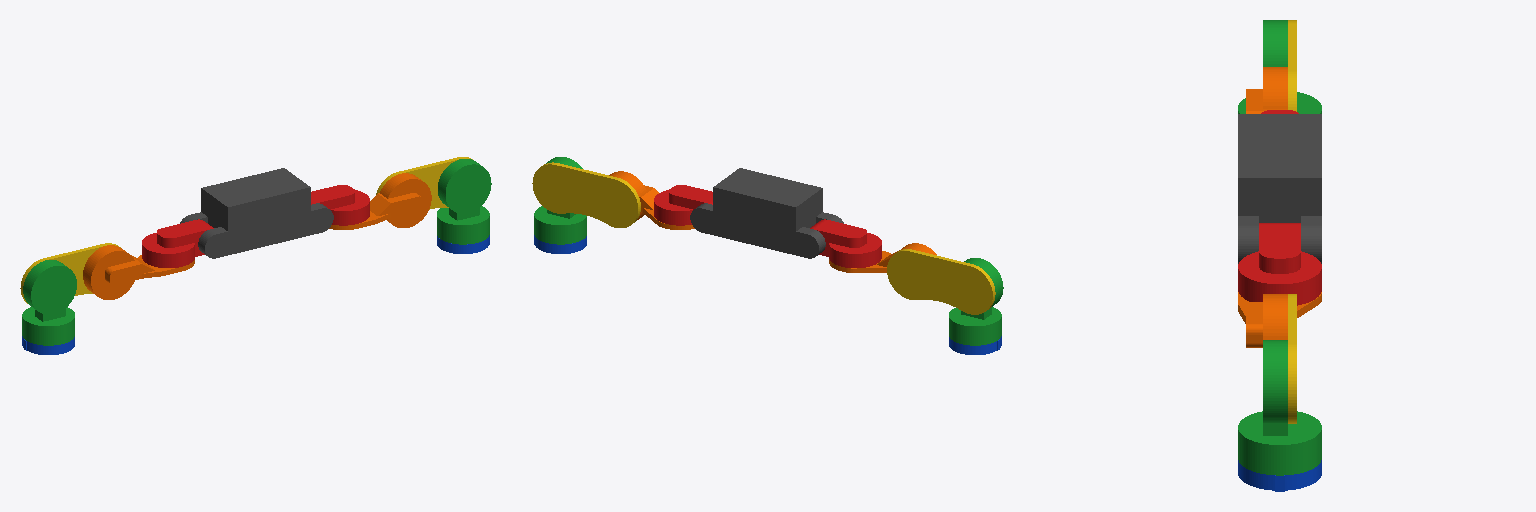
robot.urdf — ROBOT_A:
<?xml version='1.0' encoding='utf-8'?>
<robot name="ROBOT_A">
    <link name="base_link-v1">
        <inertial>
            <origin xyz="-3.596307012397224e-17 8.99076753099306e-18 0.047242270246655026" rpy="0.0 0.0 0.0" />
            <mass value="15.881921947833751" />
            <inertia ixx="0.02740389878447569" iyy="0.07377866036250164" izz="0.07503453392587439" ixy="-5.135190812746843e-33" iyz="1.0341286076480536e-18" ixz="-2.6983021339128172e-17" />
        </inertial>
        <visual name="base_link-v1_visual">
            <origin xyz="0.0 0.0 0.0" rpy="0.0 0.0 0.0" />
            <geometry>
                <mesh filename="package://asow_hw_description/meshes/base_link-v1.stl" scale="0.001 0.001 0.001" />
            </geometry>
            <material name="base_gray">
                <color rgba="0.35 0.35 0.35 1.0" />
            </material>
        </visual>
        <collision name="base_link-v1_collision">
            <origin xyz="0.0 0.0 0.0" rpy="0.0 0.0 0.0" />
            <geometry>
                <mesh filename="package://asow_hw_description/meshes/base_link-v1.stl" scale="0.001 0.001 0.001" />
            </geometry>
        </collision>
    </link>
    <link name="link_L_1-v1">
        <inertial>
            <origin xyz="-0.05253571632269832 -0.0033336910462764503 0.02499999999999999" rpy="0.0 -0.0 0.0" />
            <mass value="3.2736646506680445" />
            <inertia ixx="0.0020400762789989143" iyy="0.0061380158115020705" izz="0.005276307678153347" ixy="-0.0003628132859911648" iyz="-7.734366831151867e-19" ixz="-2.5868058713368473e-18" />
        </inertial>
        <visual name="link_L_1-v1_visual">
            <origin xyz="0.115 -0.025 0.025" rpy="-1.5707963267948966 -0.0 0.0" />
            <geometry>
                <mesh filename="package://asow_hw_description/meshes/link_L_1-v1.stl" scale="0.001 0.001 0.001" />
            </geometry>
            <material name="pair_1_red">
                <color rgba="0.85 0.15 0.15 1.0" />
            </material>
        </visual>
        <collision name="link_L_1-v1_collision">
            <origin xyz="0.115 -0.025 0.025" rpy="-1.5707963267948966 -0.0 0.0" />
            <geometry>
                <mesh filename="package://asow_hw_description/meshes/link_L_1-v1.stl" scale="0.001 0.001 0.001" />
            </geometry>
        </collision>
    </link>
    <link name="link_L_2-v1">
        <inertial>
            <origin xyz="-0.09566069346579405 -0.007703627484511559 -0.0004539395052395708" rpy="0.0 -0.0 0.0" />
            <mass value="3.118751651857192" />
            <inertia ixx="0.0021196297328528913" iyy="0.01125088261813123" izz="0.010916497110448065" ixy="-0.0003282241890858453" iyz="6.047609300765807e-05" ixz="0.0003456377415323876" />
        </inertial>
        <visual name="link_L_2-v1_visual">
            <origin xyz="0.19 0.0 0.0" rpy="0.0 -0.0 0.0" />
            <geometry>
                <mesh filename="package://asow_hw_description/meshes/link_L_2-v1.stl" scale="0.001 0.001 0.001" />
            </geometry>
            <material name="pair_2_orange">
                <color rgba="0.95 0.45 0.05 1.0" />
            </material>
        </visual>
        <collision name="link_L_2-v1_collision">
            <origin xyz="0.19 0.0 0.0" rpy="0.0 -0.0 0.0" />
            <geometry>
                <mesh filename="package://asow_hw_description/meshes/link_L_2-v1.stl" scale="0.001 0.001 0.001" />
            </geometry>
        </collision>
    </link>
    <link name="link_L_3-v1">
        <inertial>
            <origin xyz="-0.06500000000000007 -0.0018839898977644368 0.005000000000000003" rpy="0.0 -0.0 0.0" />
            <mass value="1.5722002984630519" />
            <inertia ixx="0.001107428869243225" iyy="0.006098519565284705" izz="0.007179745096220214" ixy="8.673617379884035e-19" iyz="-6.776263578034403e-21" ixz="-1.734723475976807e-18" />
        </inertial>
        <visual name="link_L_3-v1_visual">
            <origin xyz="0.32 0.0 -0.01" rpy="1.5707963267948966 -0.0 0.0" />
            <geometry>
                <mesh filename="package://asow_hw_description/meshes/link_L_3-v1.stl" scale="0.001 0.001 0.001" />
            </geometry>
            <material name="pair_3_yellow">
                <color rgba="0.90 0.75 0.10 1.0" />
            </material>
        </visual>
        <collision name="link_L_3-v1_collision">
            <origin xyz="0.32 0.0 -0.01" rpy="1.5707963267948966 -0.0 0.0" />
            <geometry>
                <mesh filename="package://asow_hw_description/meshes/link_L_3-v1.stl" scale="0.001 0.001 0.001" />
            </geometry>
        </collision>
    </link>
    <link name="link_L_4-v1">
        <inertial>
            <origin xyz="7.105427357601002e-17 -0.0459726775744445 0.012234673457824552" rpy="0.0 -0.0 0.0" />
            <mass value="4.459057900496437" />
            <inertia ixx="0.00997852464126306" iyy="0.004449906070845611" izz="0.010991696365970749" ixy="0.0" iyz="-0.00041958244565231355" ixz="-1.3877787807814457e-17" />
        </inertial>
        <visual name="link_L_4-v1_visual">
            <origin xyz="0.45 0.0 0.01" rpy="-1.5707963267948966 -0.0 0.0" />
            <geometry>
                <mesh filename="package://asow_hw_description/meshes/link_L_4-v1.stl" scale="0.001 0.001 0.001" />
            </geometry>
            <material name="pair_4_green">
                <color rgba="0.15 0.65 0.25 1.0" />
            </material>
        </visual>
        <collision name="link_L_4-v1_collision">
            <origin xyz="0.45 0.0 0.01" rpy="-1.5707963267948966 -0.0 0.0" />
            <geometry>
                <mesh filename="package://asow_hw_description/meshes/link_L_4-v1.stl" scale="0.001 0.001 0.001" />
            </geometry>
        </collision>
    </link>
    <link name="link_L_5-v1">
        <inertial>
            <origin xyz="-0.00013481796103853583 -2.324318480288175e-15 0.01" rpy="0.0 -0.0 0.0" />
            <mass value="1.236346146821069" />
            <inertia ixx="0.0008119116187459158" iyy="0.00082035579316736" izz="0.0015498443354586278" ixy="-7.654105120296088e-17" iyz="1.7848833522296184e-19" ixz="-6.938893903907228e-18" />
        </inertial>
        <visual name="link_L_5-v1_visual">
            <origin xyz="0.45 0.0 -0.1" rpy="3.141592653589793 -0.0 0.0" />
            <geometry>
                <mesh filename="package://asow_hw_description/meshes/link_L_5-v1.stl" scale="0.001 0.001 0.001" />
            </geometry>
            <material name="pair_5_blue">
                <color rgba="0.10 0.35 0.85 1.0" />
            </material>
        </visual>
        <collision name="link_L_5-v1_collision">
            <origin xyz="0.45 0.0 -0.1" rpy="3.141592653589793 -0.0 0.0" />
            <geometry>
                <mesh filename="package://asow_hw_description/meshes/link_L_5-v1.stl" scale="0.001 0.001 0.001" />
            </geometry>
        </collision>
    </link>
    <link name="link_R_1-v1">
        <inertial>
            <origin xyz="0.05253571632269829 -0.0033336910462764503 0.02499999999999999" rpy="0.0 -0.0 0.0" />
            <mass value="3.2736646506680445" />
            <inertia ixx="0.0020400762789989143" iyy="0.006138015811502084" izz="0.005276307678153347" ixy="0.00036281328599116307" iyz="-7.734366831151867e-19" ixz="-1.696914174013643e-18" />
        </inertial>
        <visual name="link_R_1-v1_visual">
            <origin xyz="-0.115 -0.025 0.025" rpy="-1.5707963267948966 -0.0 0.0" />
            <geometry>
                <mesh filename="package://asow_hw_description/meshes/link_R_1-v1.stl" scale="0.001 0.001 0.001" />
            </geometry>
            <material name="pair_1_red">
                <color rgba="0.85 0.15 0.15 1.0" />
            </material>
        </visual>
        <collision name="link_R_1-v1_collision">
            <origin xyz="-0.115 -0.025 0.025" rpy="-1.5707963267948966 -0.0 0.0" />
            <geometry>
                <mesh filename="package://asow_hw_description/meshes/link_R_1-v1.stl" scale="0.001 0.001 0.001" />
            </geometry>
        </collision>
    </link>
    <link name="link_R_2-v1">
        <inertial>
            <origin xyz="0.0956606934657939 -0.00770362748451158 -0.00045393950523957077" rpy="0.0 -0.0 0.0" />
            <mass value="3.1187516518571923" />
            <inertia ixx="0.0021196297328528856" iyy="0.011250882618131175" izz="0.01091649711044812" ixy="0.0003282241890858323" iyz="6.047609300765668e-05" ixz="-0.0003456377415324074" />
        </inertial>
        <visual name="link_R_2-v1_visual">
            <origin xyz="-0.19 0.0 0.0" rpy="0.0 -0.0 0.0" />
            <geometry>
                <mesh filename="package://asow_hw_description/meshes/link_R_2-v1.stl" scale="0.001 0.001 0.001" />
            </geometry>
            <material name="pair_2_orange">
                <color rgba="0.95 0.45 0.05 1.0" />
            </material>
        </visual>
        <collision name="link_R_2-v1_collision">
            <origin xyz="-0.19 0.0 0.0" rpy="0.0 -0.0 0.0" />
            <geometry>
                <mesh filename="package://asow_hw_description/meshes/link_R_2-v1.stl" scale="0.001 0.001 0.001" />
            </geometry>
        </collision>
    </link>
    <link name="link_R_3-v1">
        <inertial>
            <origin xyz="0.065 -0.0018839898977644368 0.005000000000000003" rpy="0.0 -0.0 0.0" />
            <mass value="1.5722002984630519" />
            <inertia ixx="0.0011074288692432236" iyy="0.006098519565284732" izz="0.007179745096220269" ixy="-8.673617379884035e-19" iyz="-6.776263578034403e-21" ixz="1.734723475976807e-18" />
        </inertial>
        <visual name="link_R_3-v1_visual">
            <origin xyz="-0.32 0.0 -0.01" rpy="1.5707963267948966 -0.0 0.0" />
            <geometry>
                <mesh filename="package://asow_hw_description/meshes/link_R_3-v1.stl" scale="0.001 0.001 0.001" />
            </geometry>
            <material name="pair_3_yellow">
                <color rgba="0.90 0.75 0.10 1.0" />
            </material>
        </visual>
        <collision name="link_R_3-v1_collision">
            <origin xyz="-0.32 0.0 -0.01" rpy="1.5707963267948966 -0.0 0.0" />
            <geometry>
                <mesh filename="package://asow_hw_description/meshes/link_R_3-v1.stl" scale="0.001 0.001 0.001" />
            </geometry>
        </collision>
    </link>
    <link name="link_R_4-v1">
        <inertial>
            <origin xyz="-7.105427357601002e-17 -0.04597267757444448 0.012234673457824545" rpy="0.0 -0.0 0.0" />
            <mass value="4.459057900496436" />
            <inertia ixx="0.009978524641263063" iyy="0.004449906070845722" izz="0.01099169636597086" ixy="1.3877787807814457e-17" iyz="-0.000419582445652316" ixz="-4.336808689942018e-18" />
        </inertial>
        <visual name="link_R_4-v1_visual">
            <origin xyz="-0.45 0.0 0.01" rpy="-1.5707963267948966 -0.0 0.0" />
            <geometry>
                <mesh filename="package://asow_hw_description/meshes/link_R_4-v1.stl" scale="0.001 0.001 0.001" />
            </geometry>
            <material name="pair_4_green">
                <color rgba="0.15 0.65 0.25 1.0" />
            </material>
        </visual>
        <collision name="link_R_4-v1_collision">
            <origin xyz="-0.45 0.0 0.01" rpy="-1.5707963267948966 -0.0 0.0" />
            <geometry>
                <mesh filename="package://asow_hw_description/meshes/link_R_4-v1.stl" scale="0.001 0.001 0.001" />
            </geometry>
        </collision>
    </link>
    <link name="link_R_5-v1">
        <inertial>
            <origin xyz="0.0001609173746943071 5.050265971612702e-17 -0.009999999999999894" rpy="0.0 -0.0 0.0" />
            <mass value="1.2369827189136964" />
            <inertia ixx="0.0008119517471491654" iyy="0.0008220137985852638" izz="0.001551500031140074" ixy="9.91738499737329e-19" iyz="8.031975085032235e-19" ixz="-6.938893903907228e-18" />
        </inertial>
        <visual name="link_R_5-v1_visual">
            <origin xyz="-0.45 0.0 0.1" rpy="0.0 -0.0 0.0" />
            <geometry>
                <mesh filename="package://asow_hw_description/meshes/link_R_5-v1.stl" scale="0.001 0.001 0.001" />
            </geometry>
            <material name="pair_5_blue">
                <color rgba="0.10 0.35 0.85 1.0" />
            </material>
        </visual>
        <collision name="link_R_5-v1_collision">
            <origin xyz="-0.45 0.0 0.1" rpy="0.0 -0.0 0.0" />
            <geometry>
                <mesh filename="package://asow_hw_description/meshes/link_R_5-v1.stl" scale="0.001 0.001 0.001" />
            </geometry>
        </collision>
    </link>
    <joint name="base_link-v1_linkL1" type="revolute">
        <origin xyz="-0.115 0.025 0.025" rpy="1.5707963267948966 -0.0 0.0" />
        <parent link="base_link-v1" />
        <child link="link_L_1-v1" />
        <axis xyz="0.0 0.0 1.0" />
        <limit lower="-1.570796" upper="1.570796" effort="1000000" velocity="1000000" />
    </joint>
    <joint name="link_L_1-v1_linkL2" type="revolute">
        <origin xyz="-0.075 -0.025 0.025" rpy="-1.5707963267948966 -0.0 0.0" />
        <parent link="link_L_1-v1" />
        <child link="link_L_2-v1" />
        <axis xyz="0.0 0.0 1.0" />
        <limit lower="-1.745329" upper="1.745329" effort="1000000" velocity="1000000" />
    </joint>
    <joint name="link_L_2-v1_linkL3" type="revolute">
        <origin xyz="-0.13 0.01 0.0" rpy="-1.5707963267948966 -0.0 0.0" />
        <parent link="link_L_2-v1" />
        <child link="link_L_3-v1" />
        <axis xyz="0.0 0.0 1.0" />
        <limit lower="-1.570796" upper="1.570796" effort="1000000" velocity="1000000" />
    </joint>
    <joint name="link_L_3-v1_linkL4" type="revolute">
        <origin xyz="-0.13 0.0 0.0" rpy="3.141592653589793 -0.0 0.0" />
        <parent link="link_L_3-v1" />
        <child link="link_L_4-v1" />
        <axis xyz="0.0 0.0 1.0" />
        <limit lower="-1.570796" upper="1.570796" effort="1000000" velocity="1000000" />
    </joint>
    <joint name="link_L_4-v1_linkL5" type="revolute">
        <origin xyz="0.0 -0.1 0.01" rpy="1.5707963267948966 -0.0 0.0" />
        <parent link="link_L_4-v1" />
        <child link="link_L_5-v1" />
        <axis xyz="0.0 0.0 1.0" />
        <limit lower="-3.141593" upper="0.0" effort="1000000" velocity="1000000" />    
    </joint>
    <joint name="base_link-v1_linkR1" type="revolute">
        <origin xyz="0.115 0.025 0.025" rpy="1.5707963267948966 -0.0 0.0" />
        <parent link="base_link-v1" />
        <child link="link_R_1-v1" />
        <axis xyz="0.0 0.0 1.0" />
        <limit lower="-1.570796" upper="1.570796" effort="1000000" velocity="1000000" />
    </joint>
    <joint name="link_R_1-v1_linkR2" type="revolute">
        <origin xyz="0.075 -0.025 0.025" rpy="-1.5707963267948966 -0.0 0.0" />
        <parent link="link_R_1-v1" />
        <child link="link_R_2-v1" />
        <axis xyz="0.0 0.0 1.0" />
        <limit lower="-1.745329" upper="1.745329" effort="1000000" velocity="1000000" />
    </joint>
    <joint name="link_R_2-v1_linkR3" type="revolute">
        <origin xyz="0.13 0.01 0.0" rpy="-1.5707963267948966 -0.0 0.0" />
        <parent link="link_R_2-v1" />
        <child link="link_R_3-v1" />
        <axis xyz="0.0 0.0 1.0" />
        <limit lower="-1.570796" upper="1.570796" effort="1000000" velocity="1000000" />
    </joint>
    <joint name="link_R_3-v1_linkR4" type="revolute">
        <origin xyz="0.13 0.0 0.0" rpy="3.141592653589793 -0.0 0.0" />
        <parent link="link_R_3-v1" />
        <child link="link_R_4-v1" />
        <axis xyz="0.0 0.0 1.0" />
        <limit lower="-1.570796" upper="1.570796" effort="1000000" velocity="1000000" />
    </joint>
    <joint name="link_R_4-v1_linkR5" type="revolute">
        <origin xyz="0.0 -0.1 0.01" rpy="-1.5707963267948966 -0.0 0.0" />
        <parent link="link_R_4-v1" />
        <child link="link_R_5-v1" />
        <axis xyz="0.0 0.0 1.0" />
        <limit lower="-3.141593" upper="0.0" effort="1000000" velocity="1000000" />    
    </joint>

     <!-- Left arm tool reference frame -->
    <link name="left_tool0" />

    <joint name="left_tool0_joint" type="fixed">
        <parent link="link_L_5-v1" />
        <child link="left_tool0" />
        <origin xyz="0 0 0" rpy="0 0 0" />
    </joint>

    <!-- Right arm tool reference frame -->
    <link name="right_tool0" />

    <joint name="right_tool0_joint" type="fixed">
        <parent link="link_R_5-v1" />
        <child link="right_tool0" />
        <origin xyz="0 0 0" rpy="0 0 0" />
    </joint>
</robot>

--- Facts derived from the render (not from the file) ---
3 views of the same robot in one strip: view 1: azimuth 30°, elevation 25°; view 2: azimuth 150°, elevation 25°; view 3: azimuth 270°, elevation 25° (orthographic).
Model ROBOT_A with 13 links and 12 joints (10 revolute, 2 fixed), rooted at base_link-v1, posed every joint at zero.
Visible links, largest first — view 1: base_link-v1, link_L_4-v1, link_R_4-v1, link_L_2-v1, link_R_2-v1, link_L_1-v1, link_R_1-v1, link_L_3-v1, link_R_3-v1; view 2: base_link-v1, link_L_3-v1, link_R_3-v1, link_L_1-v1, link_L_4-v1, link_R_4-v1, link_R_1-v1, link_R_2-v1, link_L_2-v1; view 3: base_link-v1, link_R_4-v1, link_R_1-v1, link_R_2-v1, link_L_4-v1, link_L_2-v1, link_R_5-v1, link_R_3-v1, link_L_3-v1.
Link boxes in pixels (<box>): base_link-v1: <box>180,168,333,258</box>; link_L_4-v1: <box>22,260,76,345</box>; link_R_4-v1: <box>437,159,491,244</box>; link_L_2-v1: <box>83,245,194,299</box>; link_R_2-v1: <box>329,173,431,229</box>; link_L_1-v1: <box>142,219,213,267</box>; link_R_1-v1: <box>311,185,369,225</box>; link_L_3-v1: <box>20,243,120,303</box>; link_R_3-v1: <box>376,157,472,209</box>; base_link-v1: <box>690,168,843,258</box>; link_L_3-v1: <box>887,249,995,314</box>; link_R_3-v1: <box>532,162,640,227</box>; link_L_1-v1: <box>810,219,881,267</box>; link_L_4-v1: <box>949,258,1003,345</box>; link_R_4-v1: <box>534,157,586,244</box>; link_R_1-v1: <box>654,185,712,225</box>; link_R_2-v1: <box>609,171,694,229</box>; link_L_2-v1: <box>829,243,936,272</box>; base_link-v1: <box>1238,114,1321,263</box>; link_R_4-v1: <box>1238,340,1321,475</box>; link_R_1-v1: <box>1238,223,1321,305</box>; link_R_2-v1: <box>1238,292,1321,347</box>; link_L_4-v1: <box>1238,20,1321,113</box>; link_L_2-v1: <box>1246,67,1287,113</box>; link_R_5-v1: <box>1238,460,1321,491</box>; link_R_3-v1: <box>1288,294,1296,423</box>; link_L_3-v1: <box>1288,20,1296,111</box>.
Size in the robot's own frame: 1 by 0.1 by 0.22 metres.
11 mesh visuals loaded from 11 distinct referenced files (11 binary STL).
